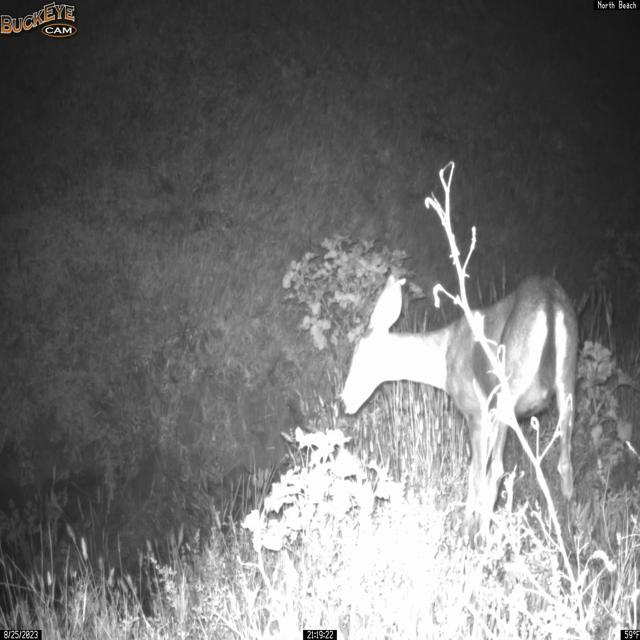deer: (340, 272, 580, 549)
